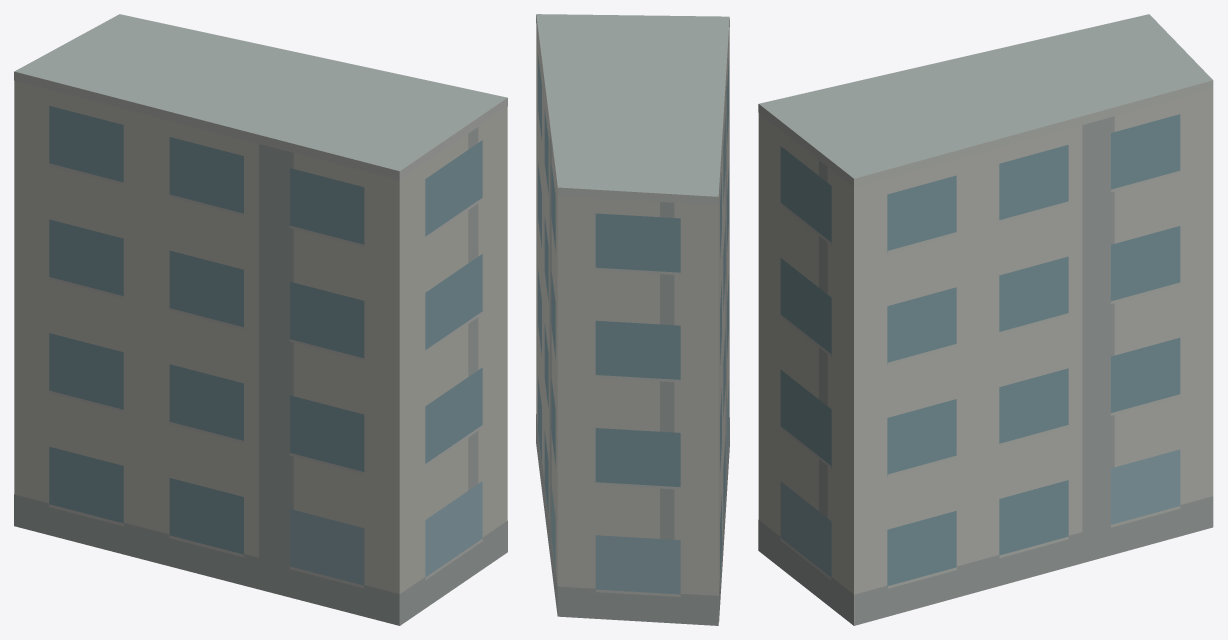
The model's file is residential-f854f6cd-d18f-426e-9abb-0dfd1c5e402b.glb.
3 renders of one model, left to right at view 1: azimuth 30°, elevation 25°; view 2: azimuth 150°, elevation 25°; view 3: azimuth 270°, elevation 25°, orthographic. The views are drawn at different scales.
Parts seen in each view (by area): view 1: residential-f854f6cd-d18f-426e-9abb-0dfd1c5e402b.tmp; view 2: residential-f854f6cd-d18f-426e-9abb-0dfd1c5e402b.tmp; view 3: residential-f854f6cd-d18f-426e-9abb-0dfd1c5e402b.tmp.
Boxes of the visible parts, x1,y1,x2,y2 form: residential-f854f6cd-d18f-426e-9abb-0dfd1c5e402b.tmp: [14, 14, 507, 625]; residential-f854f6cd-d18f-426e-9abb-0dfd1c5e402b.tmp: [536, 14, 729, 625]; residential-f854f6cd-d18f-426e-9abb-0dfd1c5e402b.tmp: [758, 14, 1213, 625].
Bounding box in the file's own units: 9.65 × 12.2 × 11.25.
